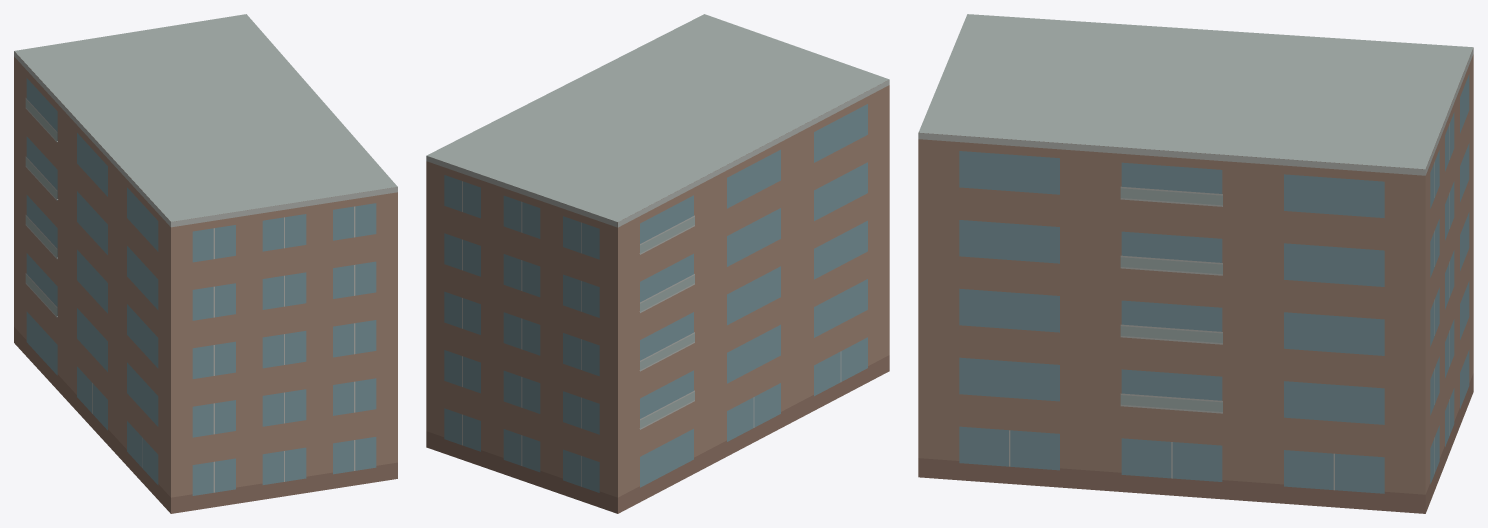
The model's file is survey-upis-32904240.glb.
The picture shows the model from 3 angles, left to right: view 1: azimuth 30°, elevation 25°; view 2: azimuth 150°, elevation 25°; view 3: azimuth 270°, elevation 25°; orthographic projection. The views are drawn at different scales.
Parts seen in each view (by area): view 1: survey-upis-32904240.tmp; view 2: survey-upis-32904240.tmp; view 3: survey-upis-32904240.tmp.
Boxes of the visible parts, box(x1,y1,x2,y2) form: survey-upis-32904240.tmp: box(14, 14, 397, 513); survey-upis-32904240.tmp: box(426, 14, 889, 513); survey-upis-32904240.tmp: box(918, 14, 1473, 513).
Bounding box in the file's own units: 12.57 × 13 × 18.99.
